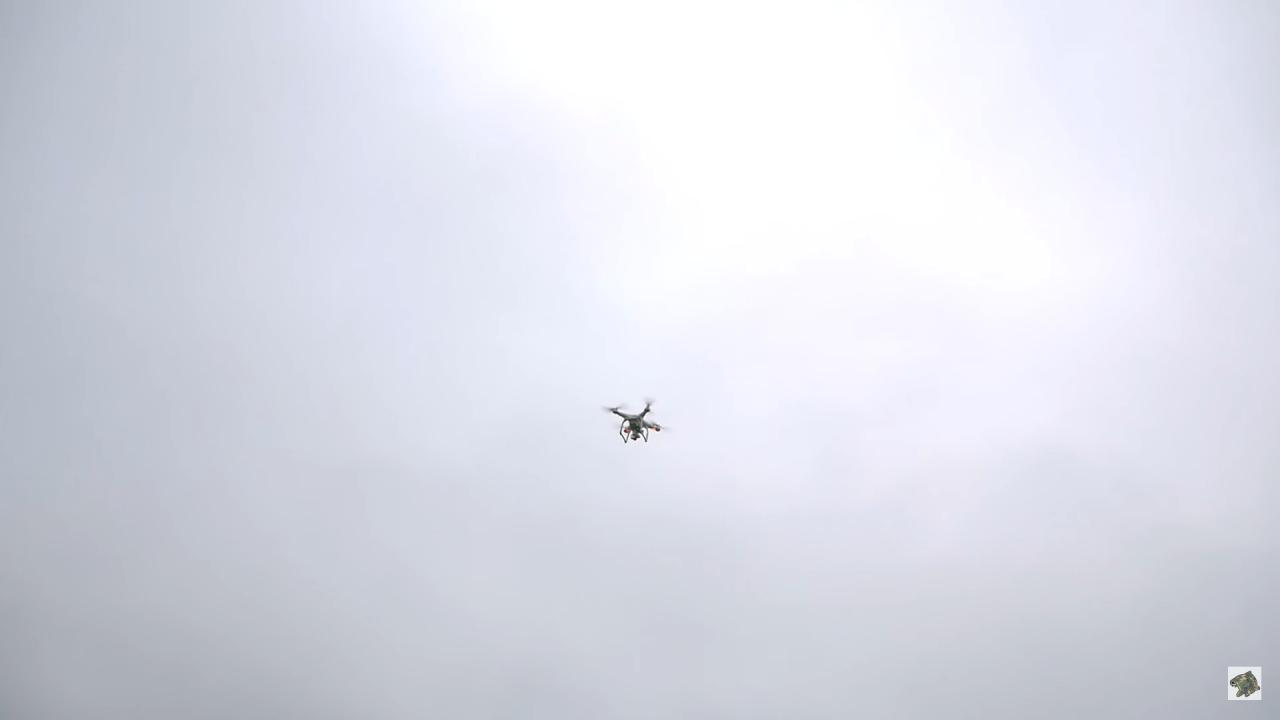Drone: (596, 392, 677, 452)
